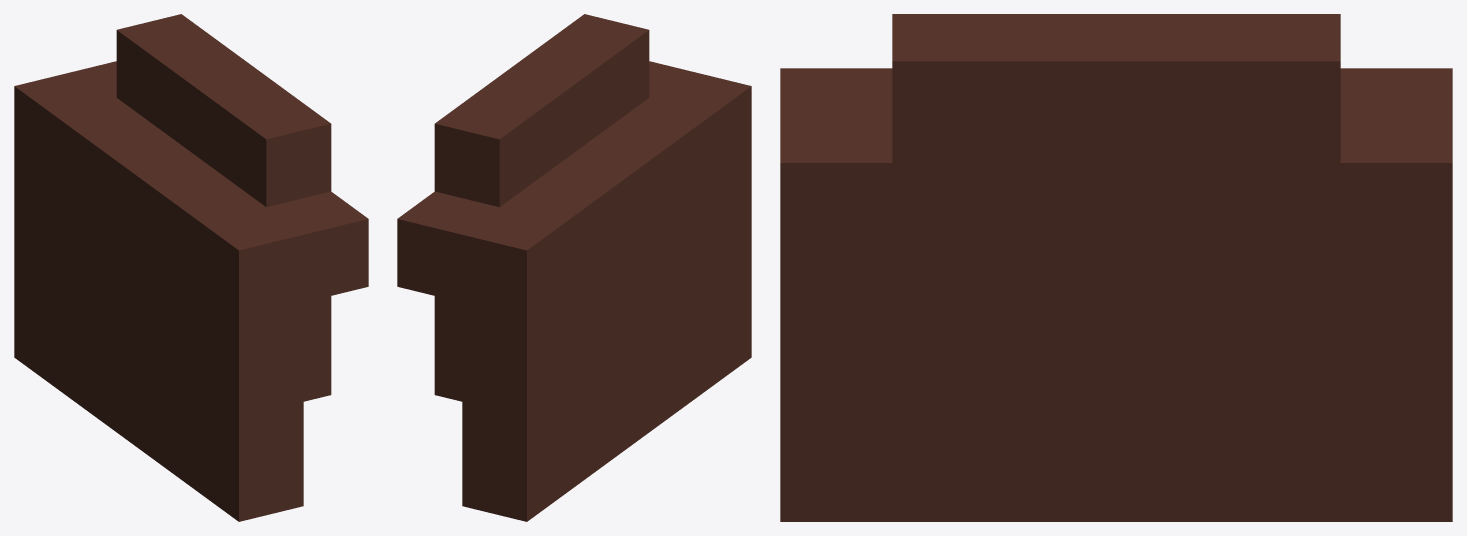
File: Other-5.obj
The picture shows the model from 3 angles, left to right: view 1: azimuth 30°, elevation 25°; view 2: azimuth 150°, elevation 25°; view 3: azimuth 270°, elevation 25°; orthographic projection. The views are drawn at different scales.
Bounding box in the file's own units: 0.2 × 0.5 × 0.6.
Materials: 1 (1 with a texture image).
